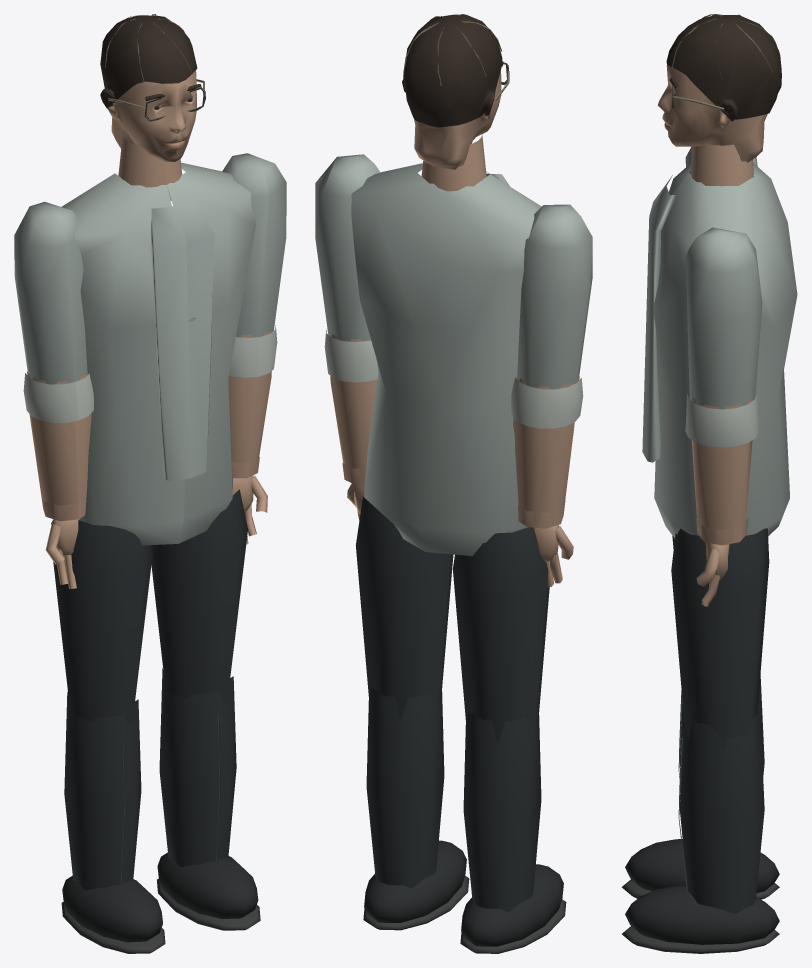
The model's file is der-professor-lod.glb.
3 renders of one model, left to right at view 1: azimuth 30°, elevation 25°; view 2: azimuth 150°, elevation 25°; view 3: azimuth 270°, elevation 25°, orthographic.
Parts seen in each view (by area): view 1: TailoredTorso, TrouserThigh (×2), TrouserCalf (×2), TailoredSleeve (×2), ShirtFront, Shoe (×2), Head, AnatomicalFace, LeftForearm, RolledCuff (×2), RightForearm, Sole (×2) (+3 smaller); view 2: TailoredTorso, TrouserThigh (×2), TrouserCalf (×2), TailoredSleeve (×2), Head, Shoe (×2), LeftForearm, RolledCuff (×2), RightForearm, AnatomicalFace, Sole (×2), Neck (+1 smaller); view 3: TailoredTorso, TrouserThigh, TrouserCalf (×2), TailoredSleeve, Shoe (×2), Head, RightForearm, AnatomicalFace, ShirtFront, RolledCuff, Neck, Sole (×2) (+1 smaller).
Boxes of the visible parts, x1,y1,x2,y2 form: TailoredTorso: (61, 162, 255, 545); TrouserThigh (×2): (53, 489, 247, 727); TrouserCalf (×2): (64, 668, 236, 890); TailoredSleeve (×2): (14, 153, 286, 384); ShirtFront: (151, 200, 214, 481); Shoe (×2): (62, 852, 258, 942); Head: (100, 14, 205, 121); AnatomicalFace: (107, 70, 196, 161); LeftForearm: (27, 371, 91, 521); RolledCuff (×2): (23, 325, 277, 422); RightForearm: (228, 330, 271, 478); Sole (×2): (61, 878, 260, 953); TailoredTorso: (351, 163, 541, 556); TrouserThigh (×2): (355, 496, 549, 744); TrouserCalf (×2): (366, 688, 541, 912); TailoredSleeve (×2): (315, 154, 592, 389); Head: (402, 14, 509, 127); Shoe (×2): (364, 840, 563, 946); LeftForearm: (513, 376, 579, 528); RolledCuff (×2): (324, 329, 583, 428); RightForearm: (330, 334, 376, 484); AnatomicalFace: (413, 70, 501, 169); Sole (×2): (363, 876, 566, 953); Neck: (421, 133, 486, 191); TailoredTorso: (647, 163, 797, 538); TrouserThigh: (671, 528, 769, 749); TrouserCalf (×2): (679, 674, 764, 913); TailoredSleeve: (685, 227, 762, 409); Shoe (×2): (625, 839, 779, 944); Head: (666, 14, 781, 121); RightForearm: (691, 396, 752, 545); AnatomicalFace: (657, 64, 767, 162); ShirtFront: (642, 175, 676, 462); RolledCuff: (685, 394, 758, 447); Neck: (690, 143, 753, 186); Sole (×2): (621, 879, 779, 953).
Size of the model in its own units: 0.5433 by 1.76 by 0.311.
